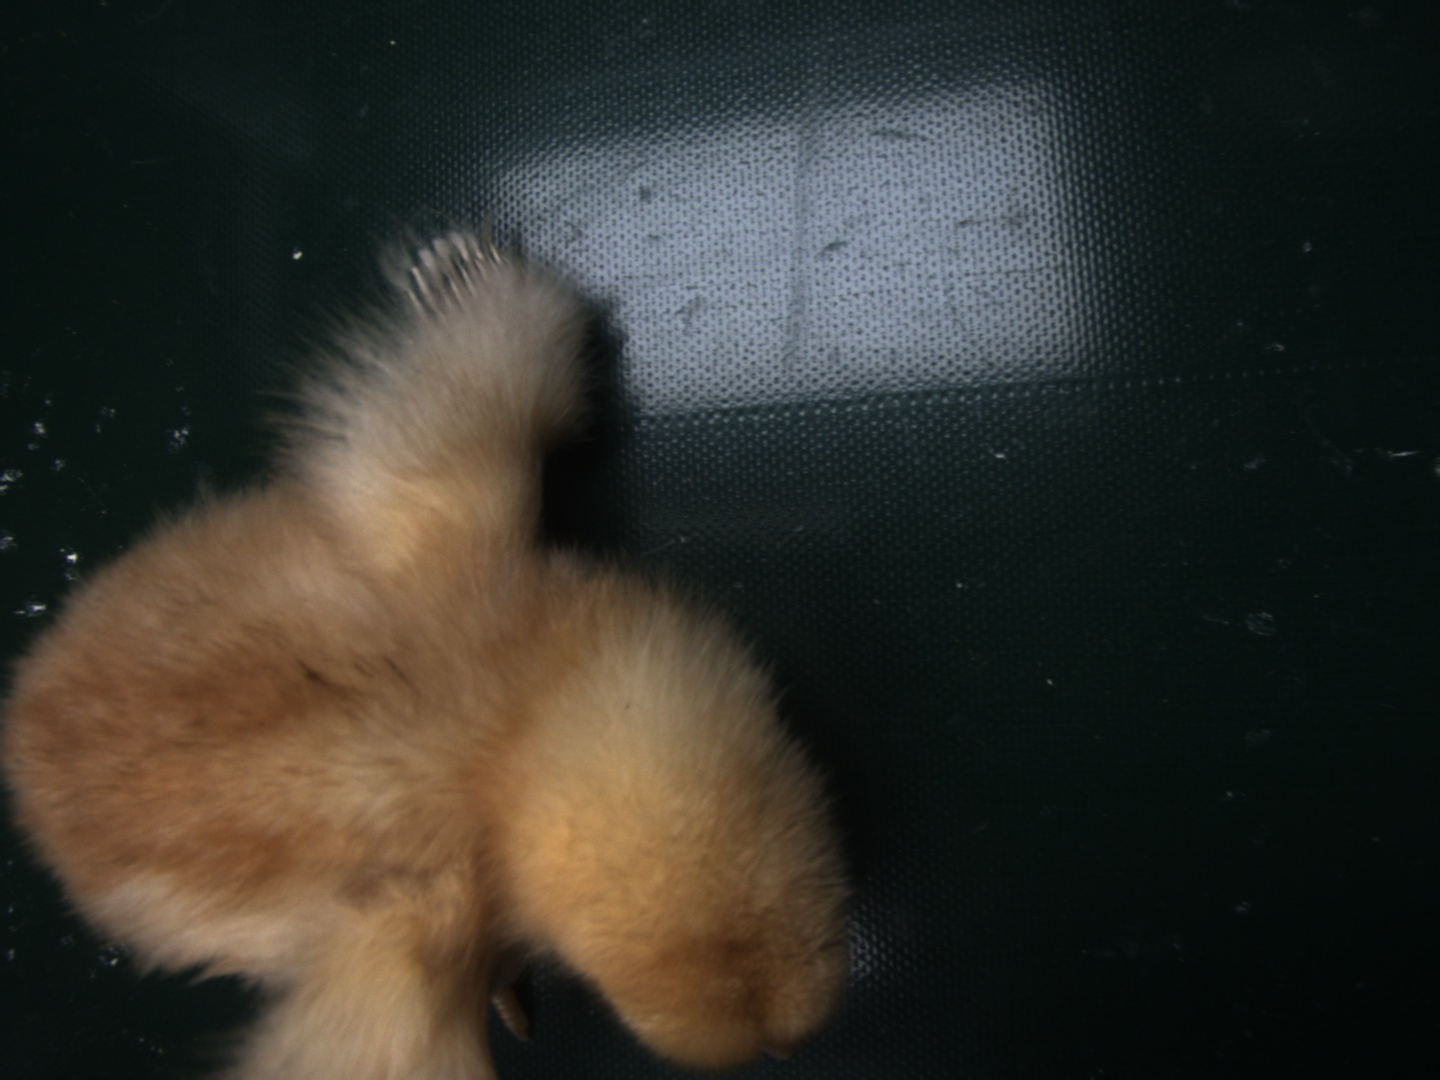female: (399, 227, 508, 329)
